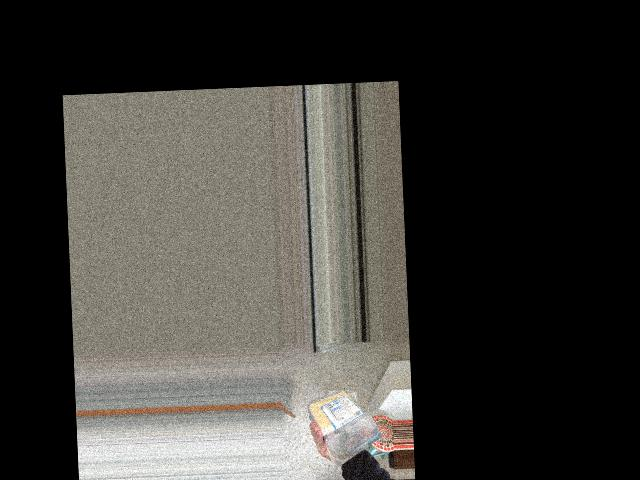cheese: (315, 383, 383, 456)
